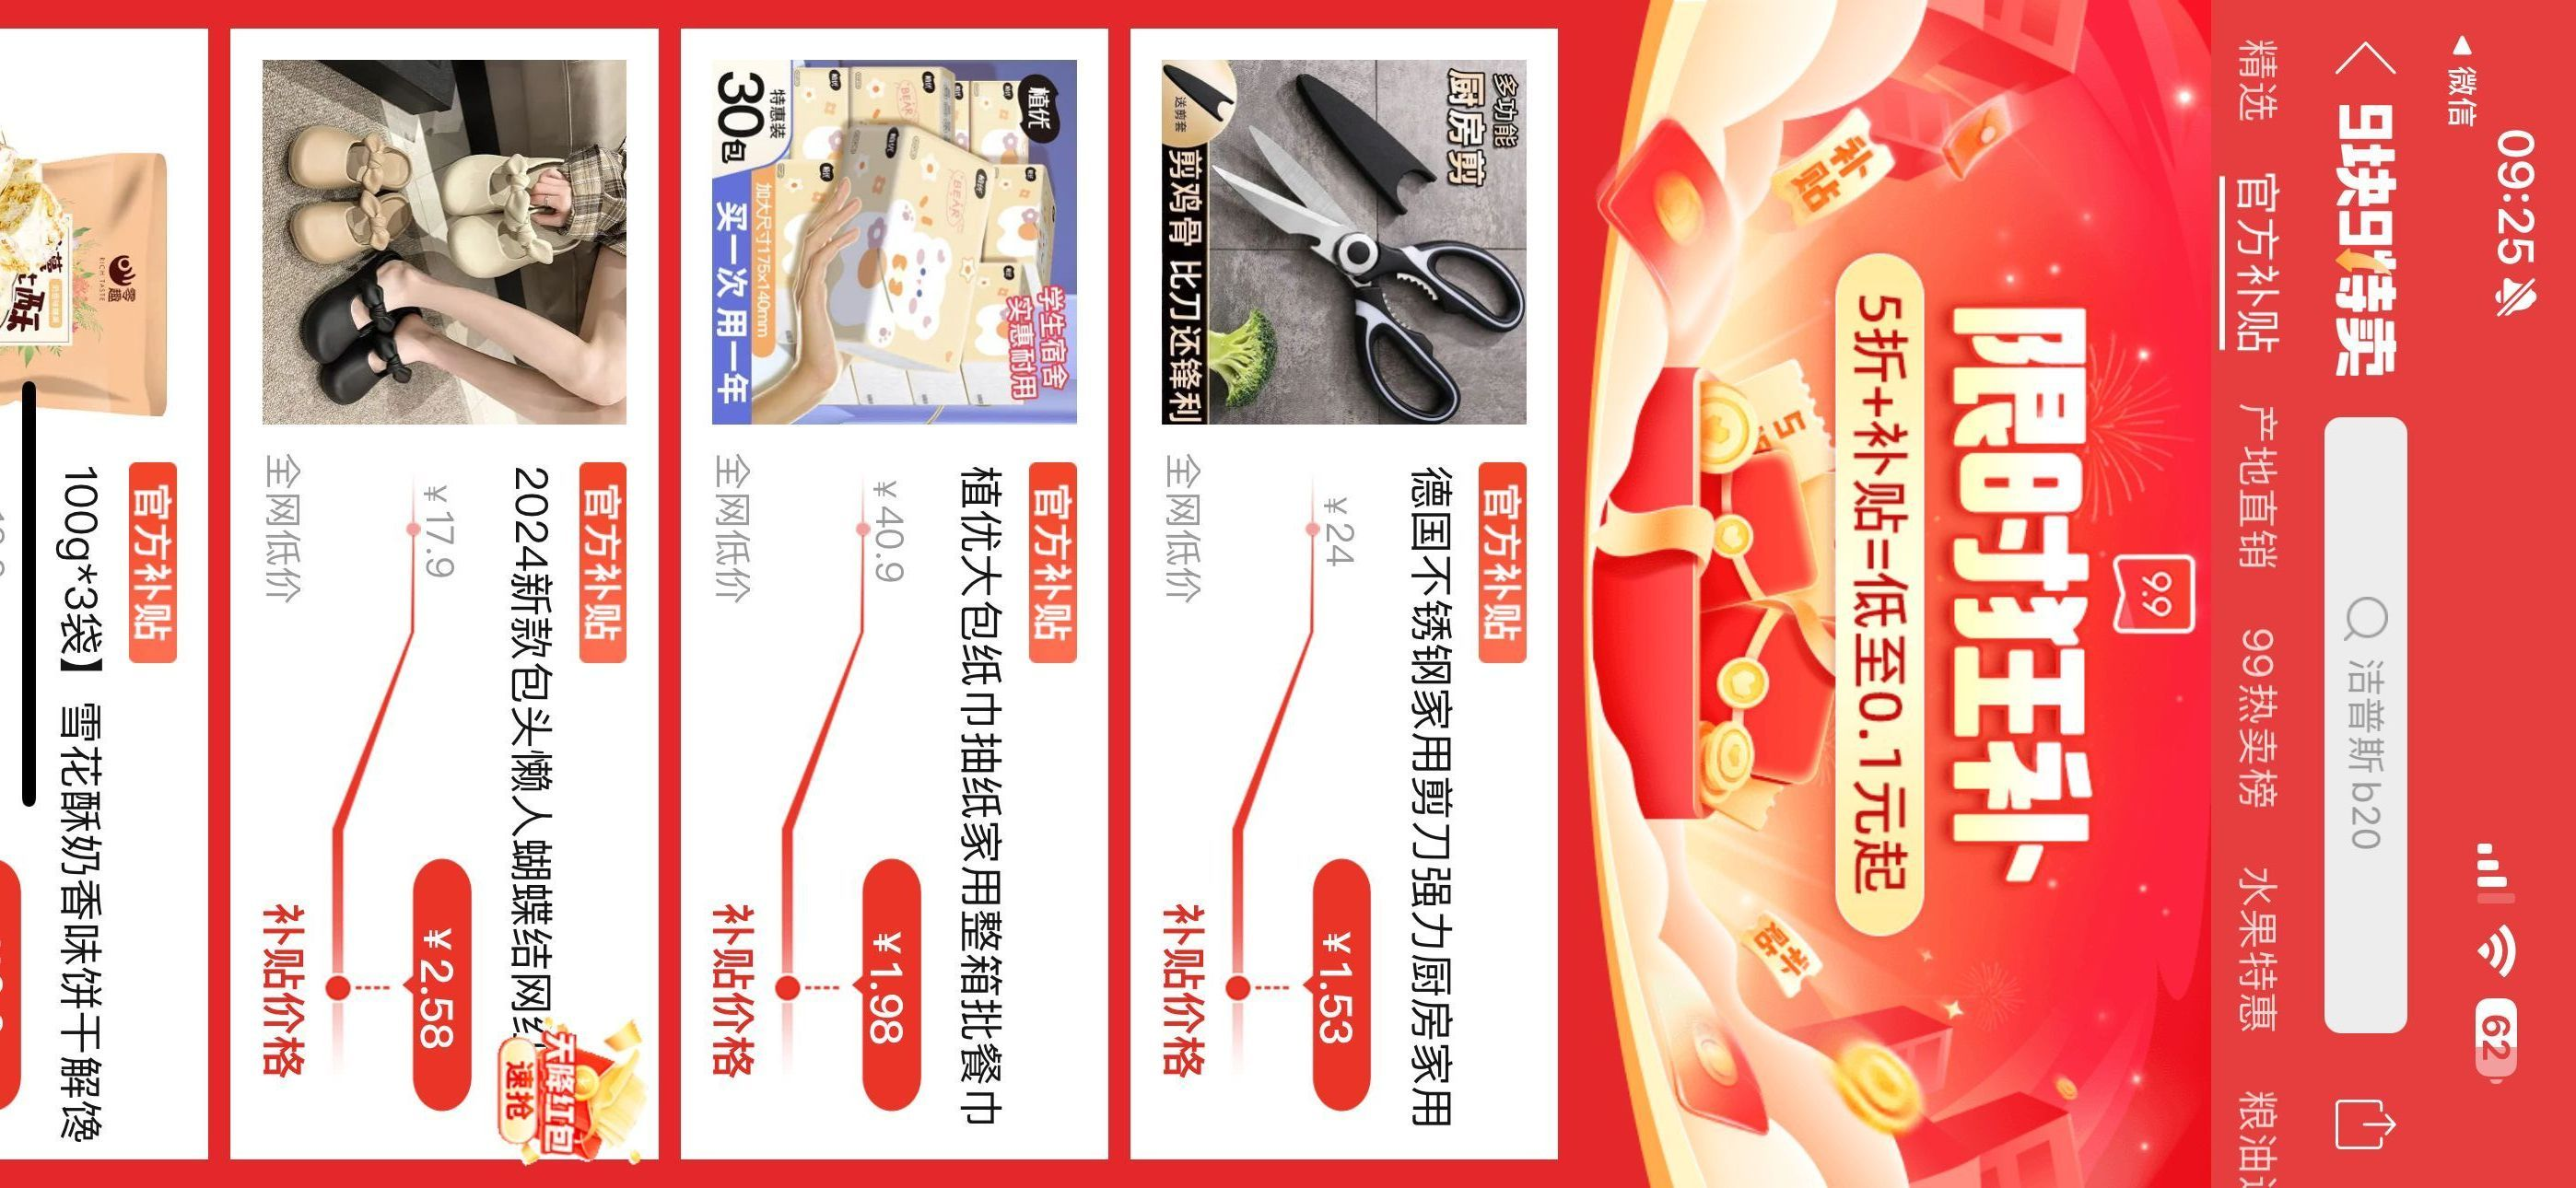item: (1115, 3, 1580, 1188), (667, 2, 1115, 1188), (225, 3, 667, 1188)
op_bar: (2307, 2, 2430, 1188)
